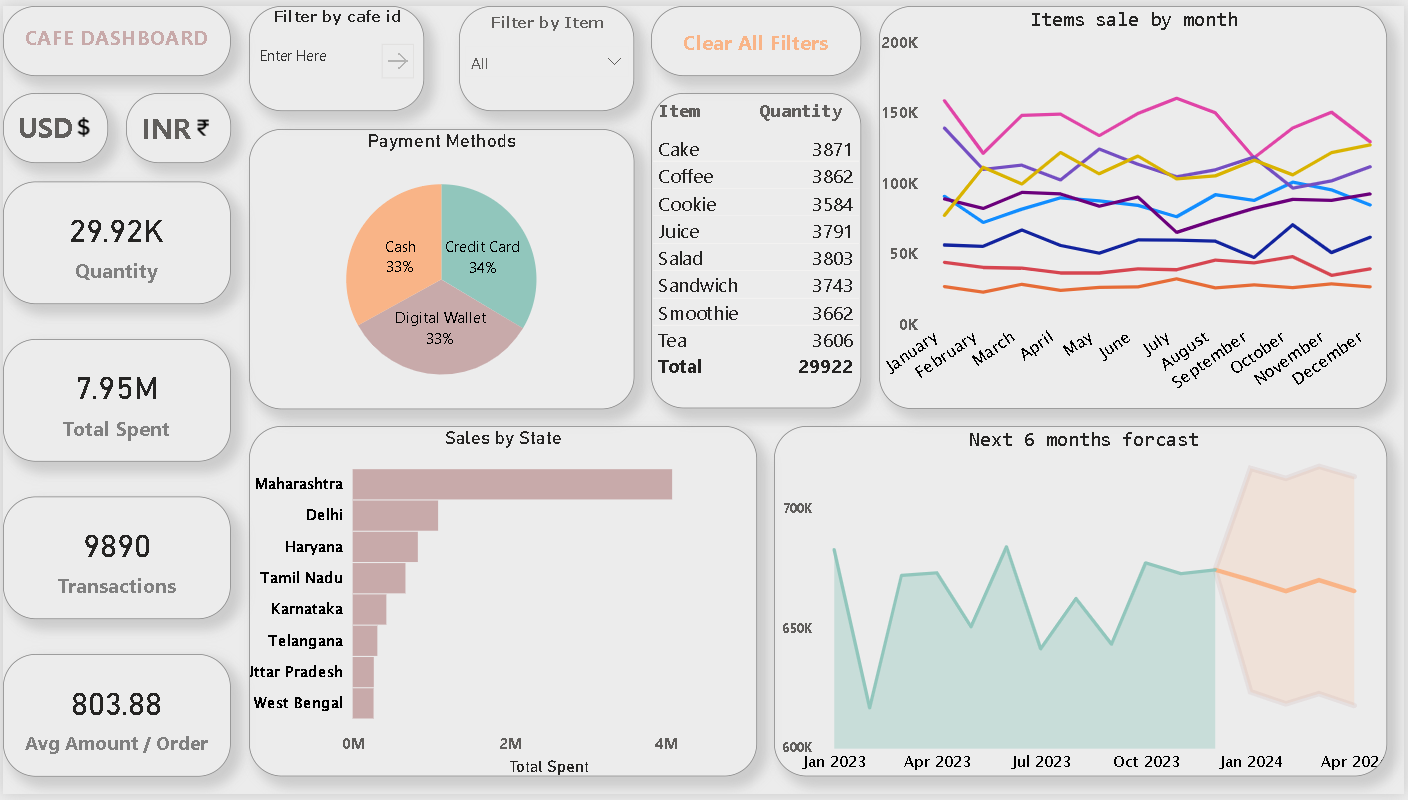

Layout of this report page (visuals, bound fields, positions):
{"tool":"powerbi","page":{"name":"Page 1","canvas":[1280,720],"ordinal":0},"visuals":[{"type":"card","fields":{"Values":["cafe_sales.average_amount_per_order"]},"box":[0,592,208,112],"z":0},{"type":"lineChart","title":"Items sale by month","fields":{"Category":["cafe_sales.Transaction_Date.Variation.Date Hierarchy.Month"],"Series":["cafe_sales.Item"],"Y":["Currency.Total Spent (Currency)"]},"box":[800,0,464,368],"z":1000},{"type":"pieChart","title":"Payment Methods","fields":{"Category":["cafe_sales.Payment_Method"],"Y":["CountNonNull(cafe_sales.Payment_Method)"]},"box":[224,112,352,256],"z":2000},{"type":"clusteredBarChart","title":"Sales by State","fields":{"Category":["cafe_sales.State"],"Y":["Currency.Total Spent (Currency)"]},"box":[224,384,464,320],"z":3000},{"type":"card","fields":{"Values":["CountNonNull(cafe_sales.Transaction_ID)"]},"box":[0,448,208,112],"z":4000},{"type":"card","fields":{"Values":["Sum(cafe_sales.Quantity)"]},"box":[0,160,208,112],"z":5000},{"type":"card","fields":{"Values":["Currency.Total Spent (Currency)"]},"box":[0,304,208,112],"z":6000},{"type":"slicer","fields":{"Values":["cafe_sales.Item"]},"box":[416,0,160,96],"z":7000},{"type":"textSlicer","title":"Filter by cafe id","fields":{"Values":["cafe_sales.Cafe_id"]},"box":[224,0,160,96],"z":8000},{"type":"lineChart","title":"Next 6 months forcast","fields":{"Category":["cafe_sales.Transaction_Date.Variation.Date Hierarchy.Year","cafe_sales.Transaction_Date.Variation.Date Hierarchy.Month"],"Y":["Currency.Total Spent (Currency)"]},"box":[704,384,560,320],"z":9000},{"type":"actionButton","box":[0,80,96,64],"z":11000},{"type":"actionButton","box":[112,80,96,64],"z":12000},{"type":"textbox","box":[0,0,208,64],"z":13000},{"type":"tableEx","fields":{"Values":["cafe_sales.Item","Sum(cafe_sales.Quantity)"]},"box":[592,80,192,288],"z":14000},{"type":"actionButton","box":[592,0,192,64],"z":15000}]}

Visuals, with their boxes in screenshot pixels (x1, y1, x2, y2), scaled from the page's 1280x720 canvas onto the 1408x800 screenshot:
card - cafe_sales.average_amount_per_order: bbox(0, 658, 229, 782)
"Items sale by month" lineChart: bbox(880, 0, 1390, 409)
"Payment Methods" pieChart: bbox(246, 124, 634, 409)
"Sales by State" clusteredBarChart: bbox(246, 427, 757, 782)
card - CountNonNull(cafe_sales.Transaction_ID): bbox(0, 498, 229, 622)
card - Sum(cafe_sales.Quantity): bbox(0, 178, 229, 302)
card - Currency.Total Spent (Currency): bbox(0, 338, 229, 462)
slicer - cafe_sales.Item: bbox(458, 0, 634, 107)
"Filter by cafe id" textSlicer: bbox(246, 0, 422, 107)
"Next 6 months forcast" lineChart: bbox(774, 427, 1390, 782)
actionButton: bbox(0, 89, 106, 160)
actionButton: bbox(123, 89, 229, 160)
textbox: bbox(0, 0, 229, 71)
tableEx - cafe_sales.Item x Sum(cafe_sales.Quantity): bbox(651, 89, 862, 409)
actionButton: bbox(651, 0, 862, 71)
